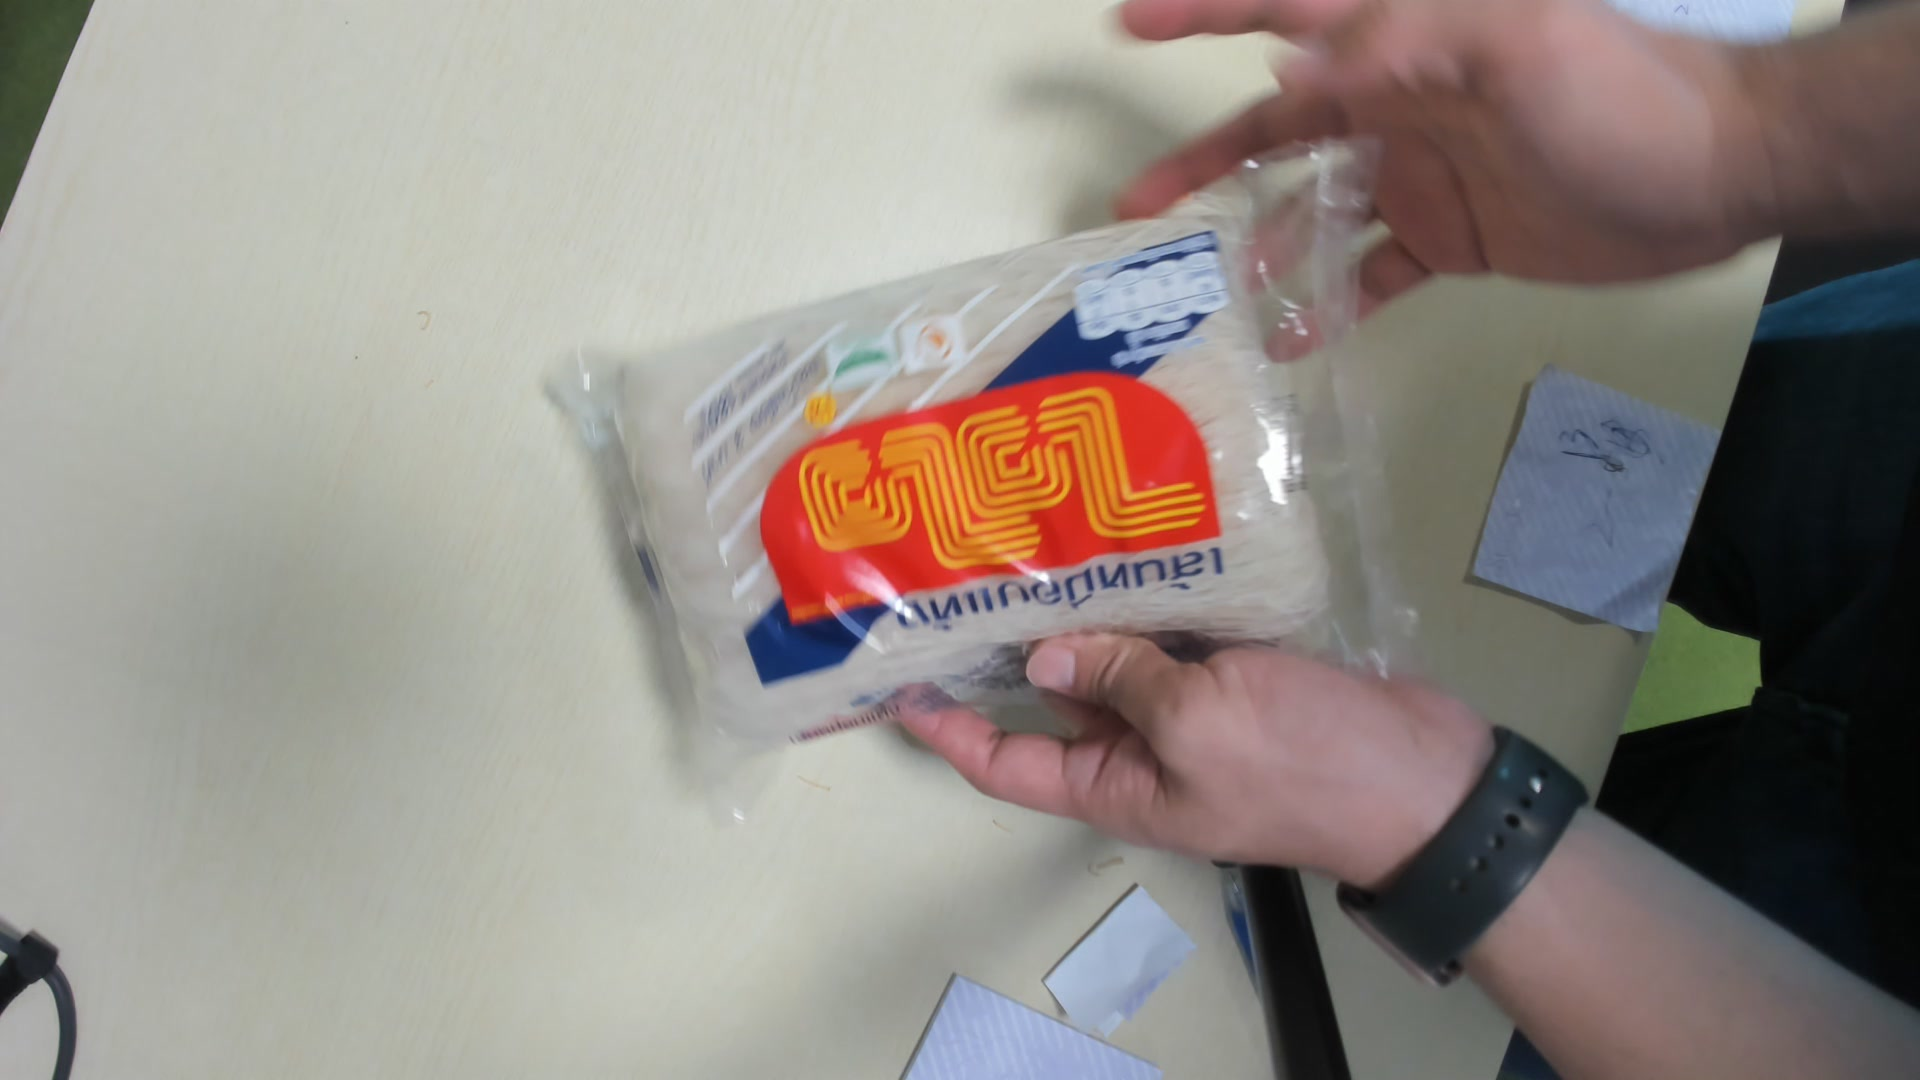BeeHoonVermicelli_100-199g_NonHalal_NonHealthy: (553, 135, 1399, 767)
